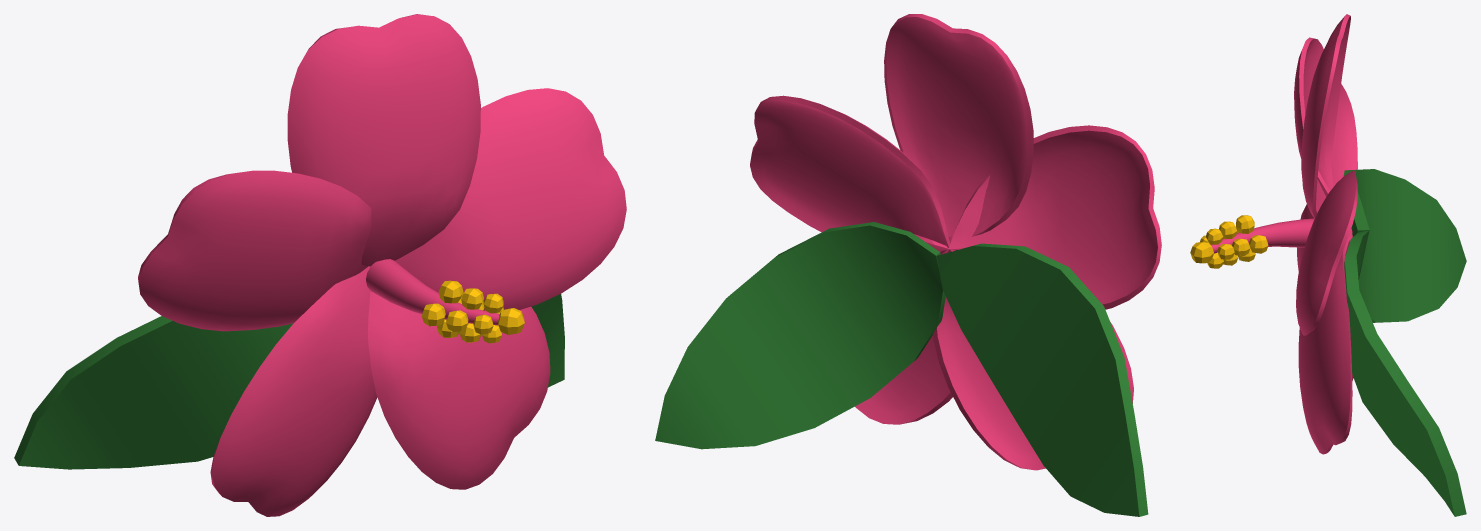
The model's file is hibiscus.gltf.
3 renders of one model, left to right at view 1: azimuth 30°, elevation 25°; view 2: azimuth 150°, elevation 25°; view 3: azimuth 270°, elevation 25°, orthographic. The views are drawn at different scales.
Visible parts, largest first — view 1: Circle.2041; view 2: Circle.2041; view 3: Circle.2041.
Part boxes in pixels (bbox=[...]): Circle.2041: bbox=[14, 14, 626, 516]; Circle.2041: bbox=[655, 14, 1161, 516]; Circle.2041: bbox=[1190, 14, 1466, 516].
Bounding box in the file's own units: 2.62 × 2.18 × 1.41.
1 material, 1 textured.
